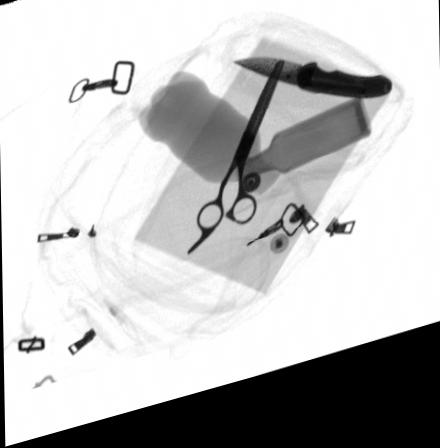Knife: (229, 69, 391, 118)
Scissors: (185, 72, 285, 267)
